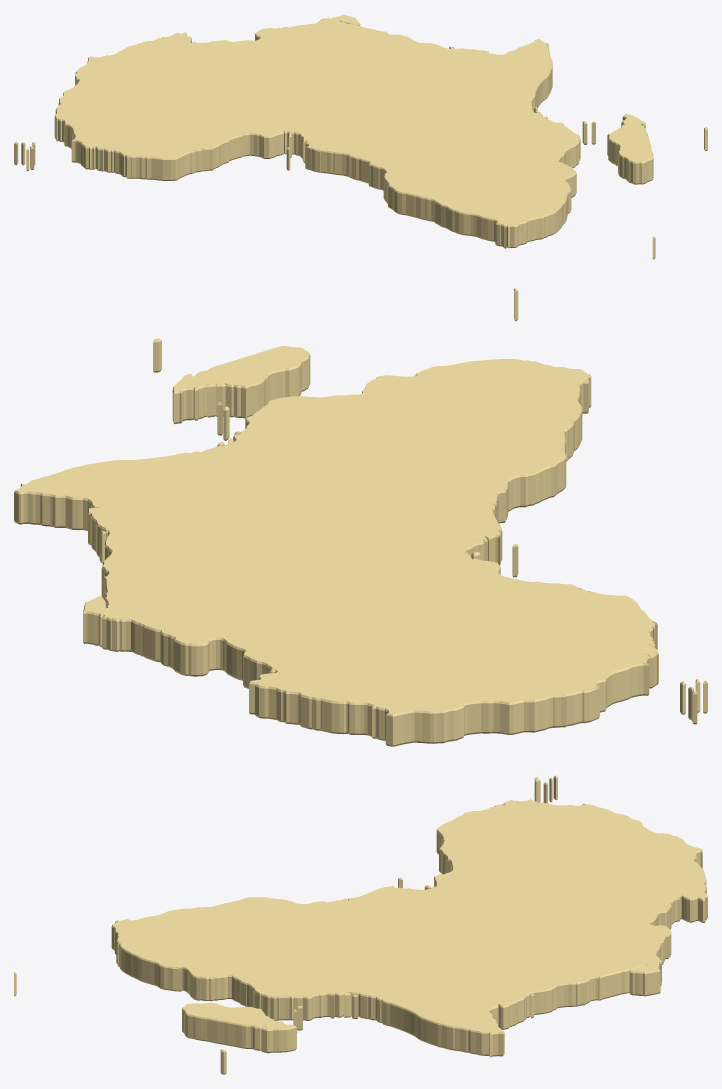
The model's file is africa.glb.
3 renders of one model, top to bottom at view 1: azimuth 30°, elevation 25°; view 2: azimuth 150°, elevation 25°; view 3: azimuth 270°, elevation 25°, orthographic. The views are drawn at different scales.
Size of the model in its own units: 1.69 by 0.068 by 1.79.
